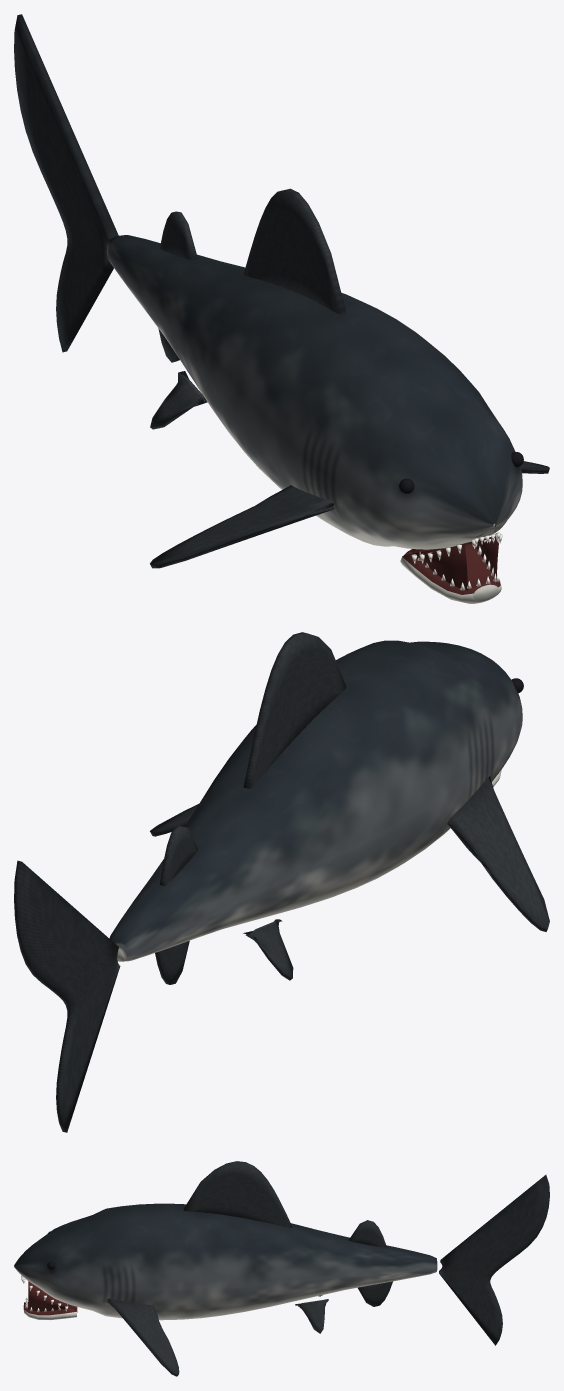
Rendered from predator_reef_shark.glb.
The picture shows the model from 3 angles, top to bottom: view 1: azimuth 30°, elevation 25°; view 2: azimuth 150°, elevation 25°; view 3: azimuth 270°, elevation 25°; orthographic projection. The views are drawn at different scales.
Visible parts, largest first — view 1: predator_reef_shark; view 2: predator_reef_shark; view 3: predator_reef_shark.
Part boxes in pixels (x1=…): predator_reef_shark: x1=14, y1=14, x2=549, y2=603; predator_reef_shark: x1=14, y1=632, x2=549, y2=1132; predator_reef_shark: x1=14, y1=1161, x2=549, y2=1376.
Bounding box in the file's own units: 2.54 × 1.99 × 5.28.
4 materials, 1 textured.
